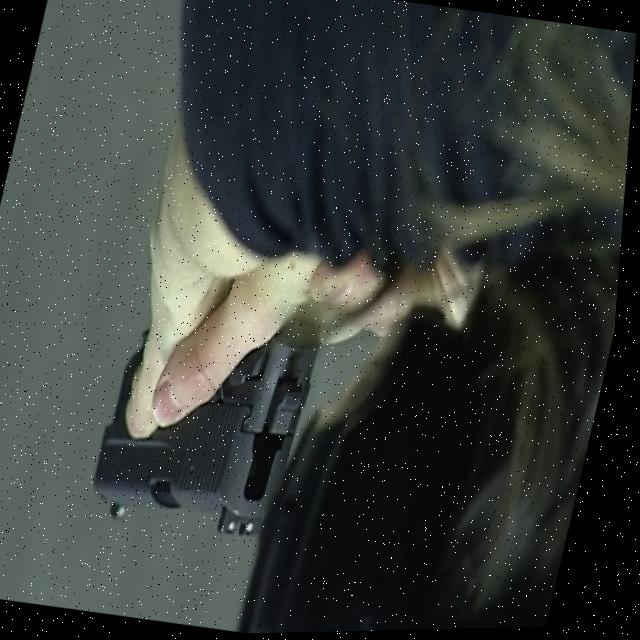pistol: (91, 316, 325, 551)
